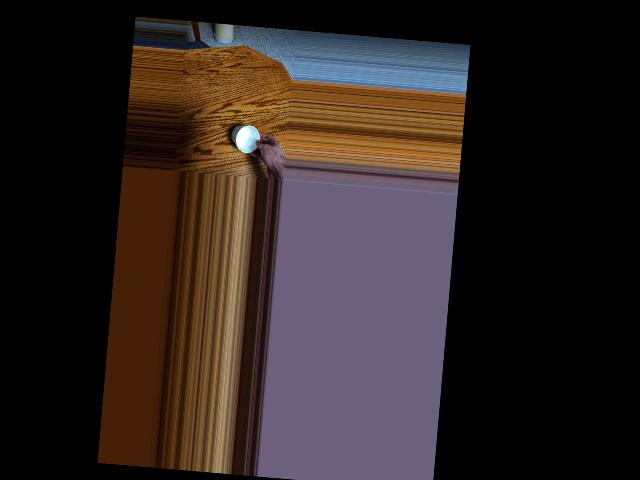cotage: (234, 124, 263, 156)
